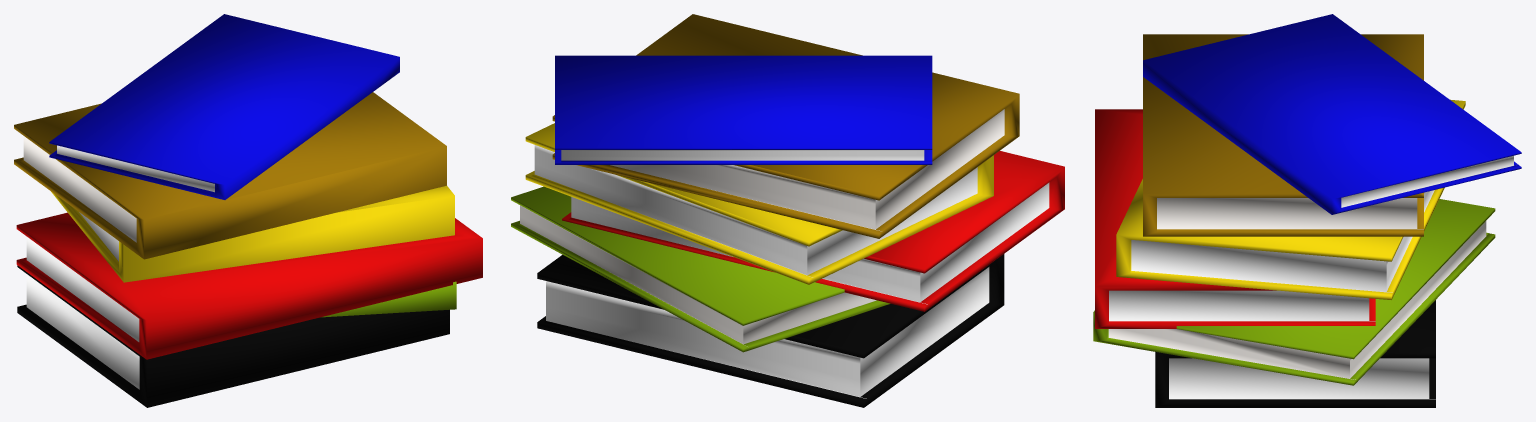
File: book_stack.fbx
3 views of the same model, side by side, from view 1: azimuth 30°, elevation 25°; view 2: azimuth 150°, elevation 25°; view 3: azimuth 270°, elevation 25° (orthographic). The views are drawn at different scales.
Visible parts, largest first — view 1: SketchUp2; view 2: SketchUp2; view 3: SketchUp2.
Part boxes in pixels (box(x1,y1,x2,y2)): SketchUp2: box(14, 14, 482, 407); SketchUp2: box(511, 14, 1064, 407); SketchUp2: box(1093, 14, 1521, 407).
Bounding box in the file's own units: 28.86 × 14.68 × 25.17.
